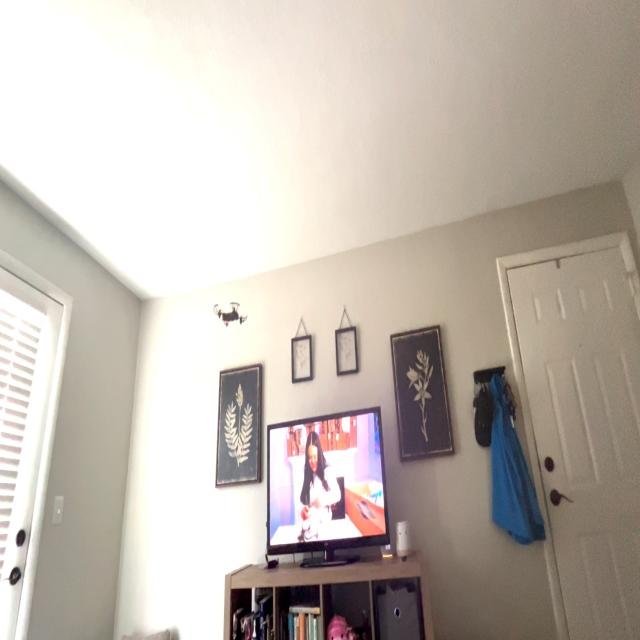drone: (202, 284, 247, 340)
